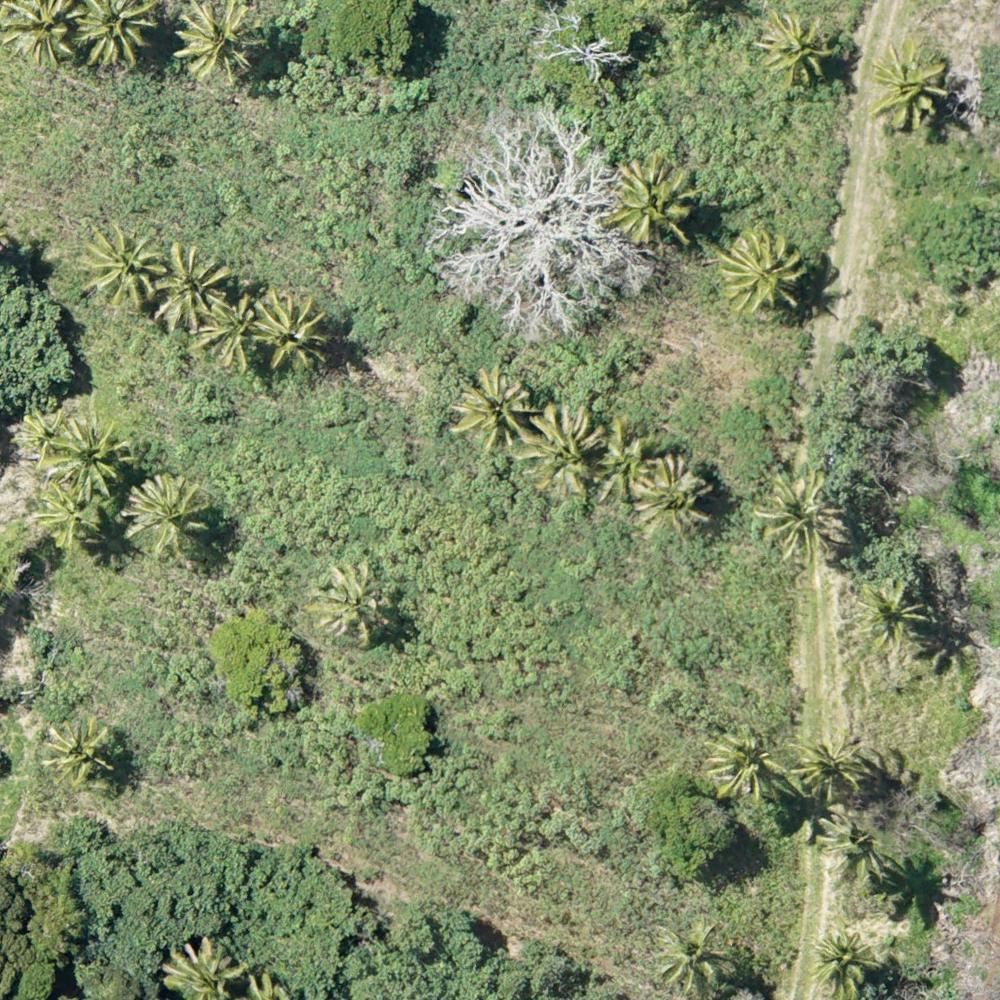Palm: (173, 1, 266, 88), (448, 365, 537, 452), (753, 474, 843, 560), (123, 477, 212, 562), (250, 291, 335, 379), (522, 408, 612, 491), (625, 456, 714, 539), (720, 233, 803, 316), (83, 223, 164, 307), (608, 159, 692, 239), (755, 9, 839, 88), (865, 47, 945, 129), (157, 245, 231, 330), (72, 1, 157, 73), (191, 295, 268, 372), (705, 728, 783, 804), (312, 565, 389, 641), (50, 419, 126, 495), (1, 1, 79, 74), (656, 922, 732, 996), (814, 814, 886, 888), (851, 576, 922, 651), (809, 926, 882, 995), (45, 717, 119, 785), (796, 733, 869, 801), (34, 484, 99, 549)
